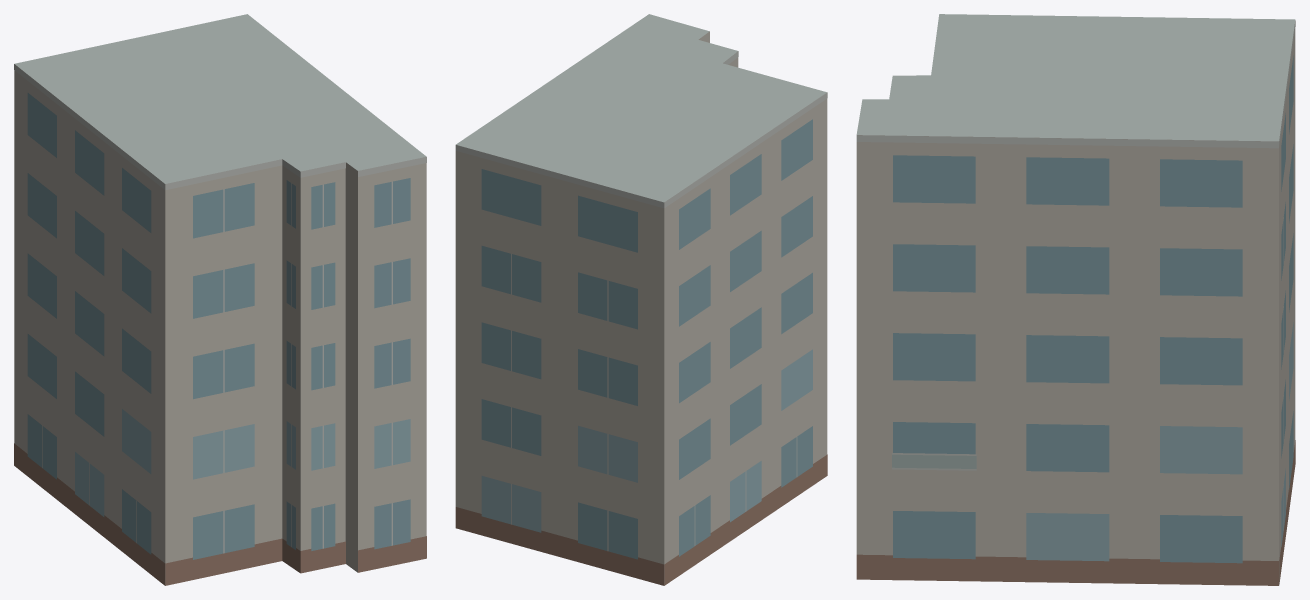
File: survey-upis-32591842.glb
The picture shows the model from 3 angles, left to right: view 1: azimuth 30°, elevation 25°; view 2: azimuth 150°, elevation 25°; view 3: azimuth 270°, elevation 25°; orthographic projection. The views are drawn at different scales.
Parts seen in each view (by area): view 1: survey-upis-32591842.tmp; view 2: survey-upis-32591842.tmp; view 3: survey-upis-32591842.tmp.
Boxes of the visible parts, x1,y1,x2,y2 form: survey-upis-32591842.tmp: (14, 14, 426, 585); survey-upis-32591842.tmp: (455, 14, 827, 585); survey-upis-32591842.tmp: (856, 14, 1295, 585).
Bounding box in the file's own units: 9.66 × 15.7 × 14.06.
